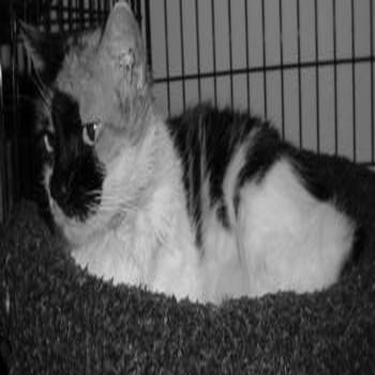cat: (1, 9, 372, 298)
